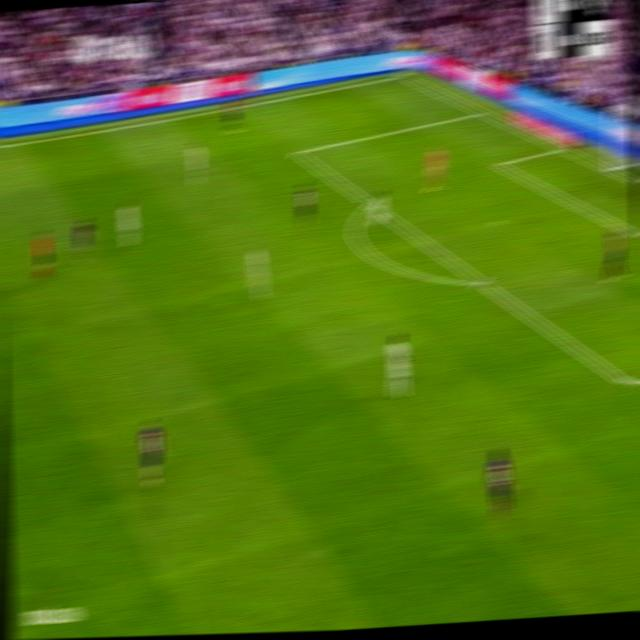bigarea_bottom_inner: (618, 370, 636, 397)
bigarea_top_inner: (291, 144, 305, 159)
bigarea_top_outter: (474, 104, 488, 118)
bottom_arc_area_intersection: (472, 271, 490, 292)
corner: (395, 68, 411, 81)
smallarea_top_inner: (492, 156, 506, 171)
top_arc_area_intersection: (362, 192, 377, 211)
